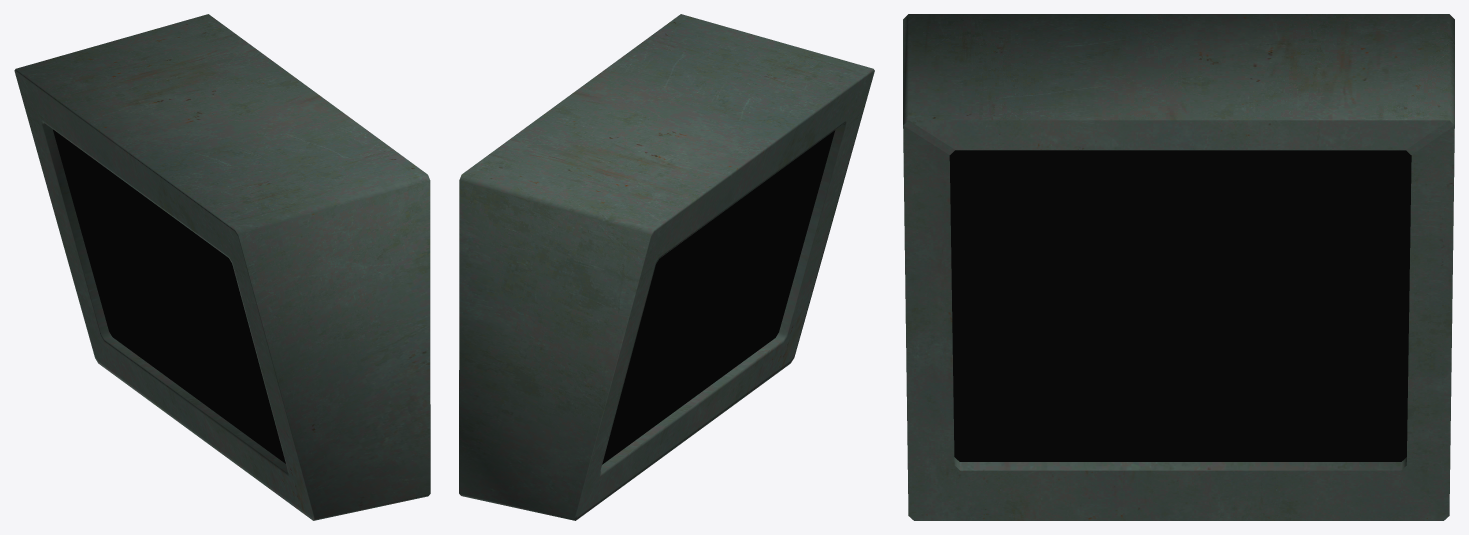
Rendered from 04_02_reactr_obsevation_window.DAE.
The picture shows the model from 3 angles, left to right: view 1: azimuth 30°, elevation 25°; view 2: azimuth 150°, elevation 25°; view 3: azimuth 270°, elevation 25°; orthographic projection. The views are drawn at different scales.
Parts seen in each view (by area): view 1: Object001, Plane002; view 2: Object001, Plane002; view 3: Plane002, Object001.
Boxes of the visible parts, box(x1,y1,x2,y2) form: Object001: box(14, 14, 430, 520); Plane002: box(53, 129, 285, 463); Object001: box(459, 14, 874, 520); Plane002: box(602, 130, 835, 464); Plane002: box(949, 150, 1411, 461); Object001: box(903, 14, 1454, 520).
Size of the model in its own units: 2.99 by 4.71 by 5.9.
